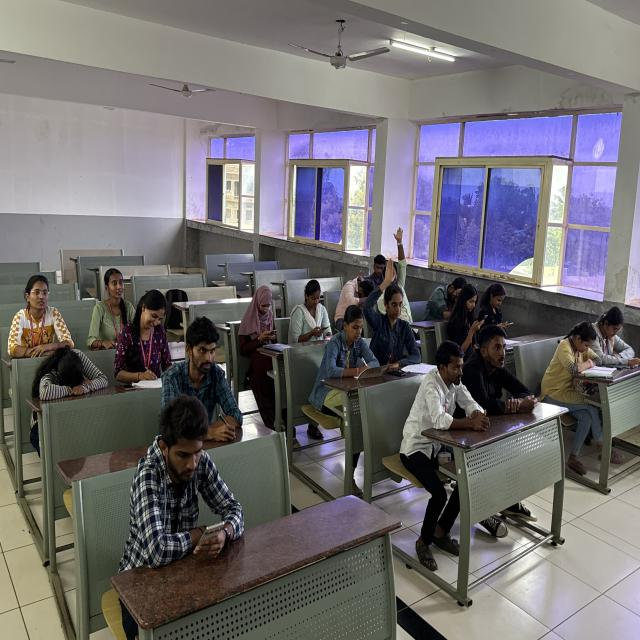Hand Rising: (363, 251, 416, 368), (379, 223, 416, 302)
Reading: (542, 314, 604, 394), (584, 301, 640, 370)
Sleeping: (26, 339, 113, 421), (332, 271, 377, 316)
Using Phone: (122, 389, 255, 564), (235, 281, 284, 373), (285, 275, 338, 347), (451, 283, 488, 346), (480, 280, 521, 334)
Writing: (156, 309, 245, 446), (315, 304, 388, 392), (111, 288, 174, 387)
